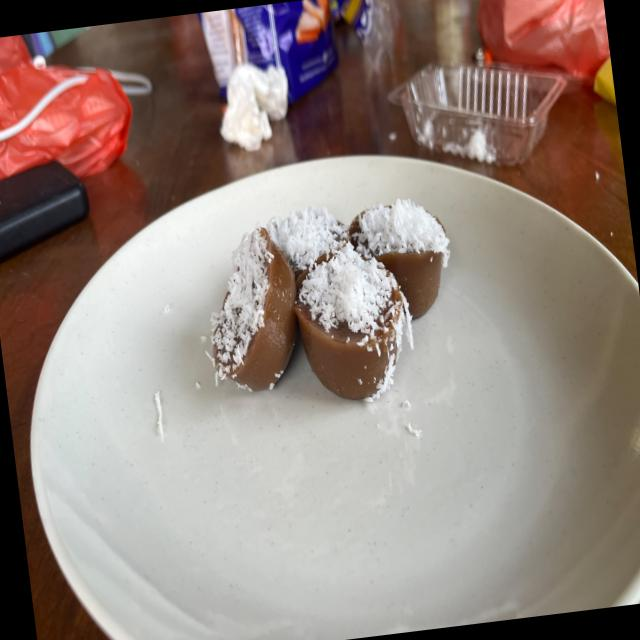Kuih lompang: (294, 242, 413, 399), (211, 223, 296, 390), (348, 198, 449, 317), (266, 204, 348, 291)
